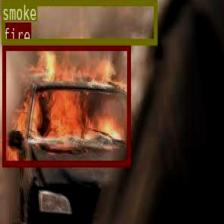fire: (2, 44, 130, 166)
smoke: (2, 0, 156, 43)
